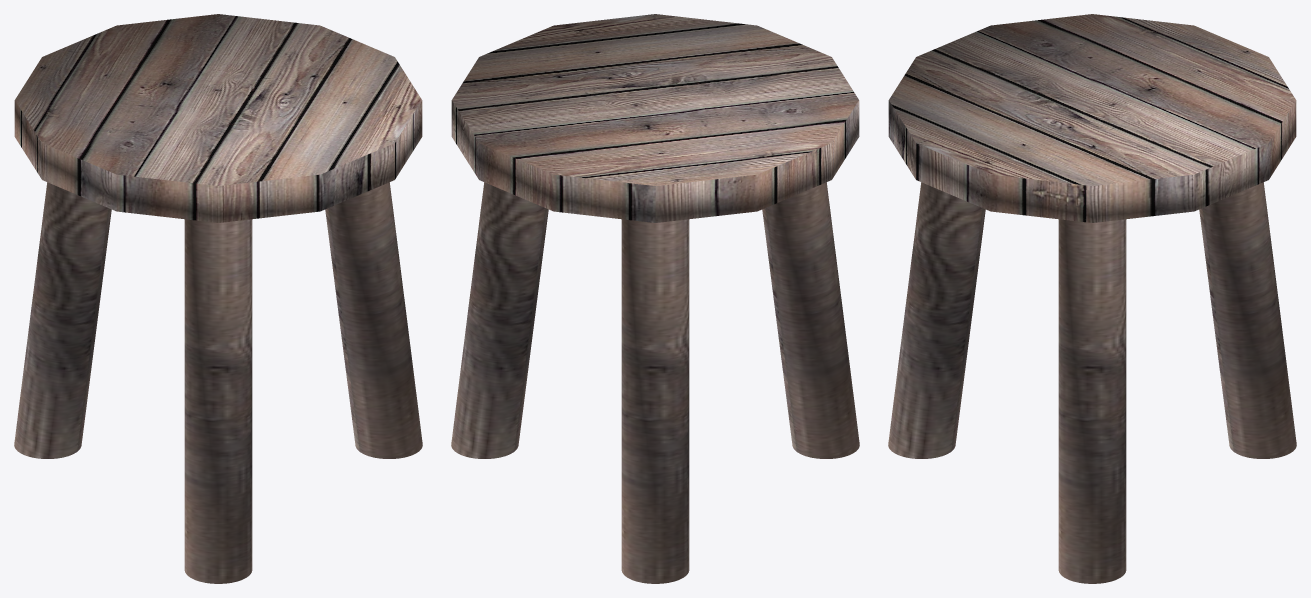
File: stool.fbx
The picture shows the model from 3 angles, left to right: view 1: azimuth 30°, elevation 25°; view 2: azimuth 150°, elevation 25°; view 3: azimuth 270°, elevation 25°; orthographic projection.
Visible parts, largest first — view 1: Stool; view 2: Stool; view 3: Stool.
Boxes of the visible parts, x1,y1,x2,y2 form: Stool: (14,14,422,583); Stool: (451,14,859,583); Stool: (888,14,1296,583).
Size of the model in its own units: 0.4107 by 0.403 by 0.3863.
Materials: 1 (1 with a texture image).
